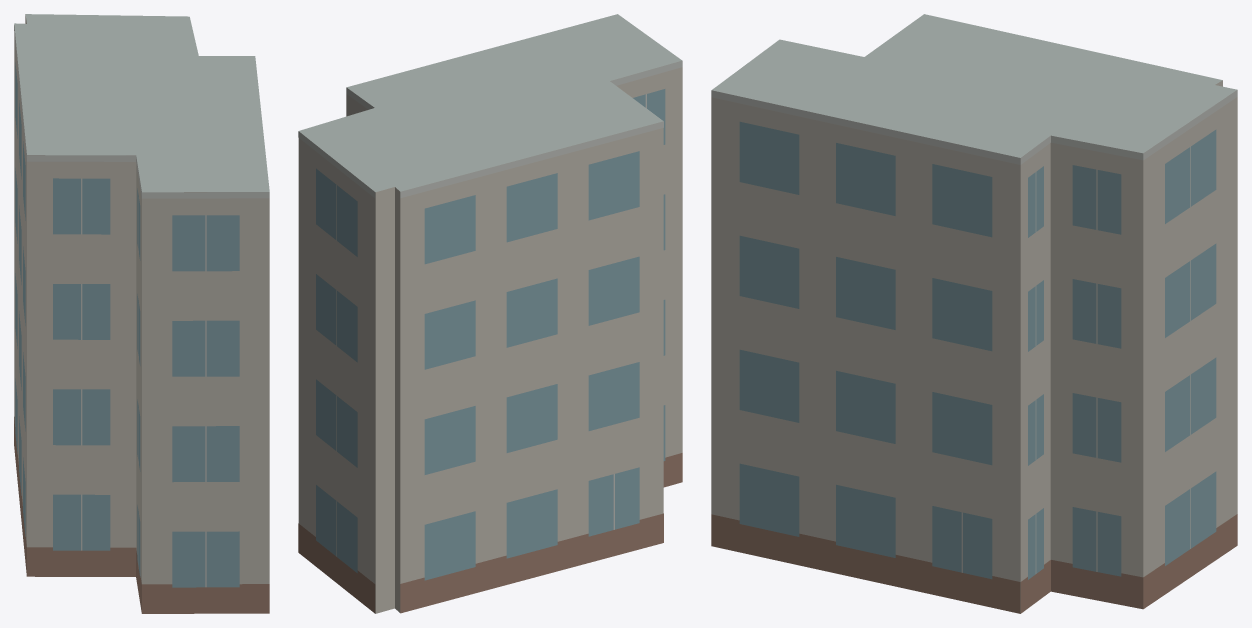
File: survey-upis-32753701.glb
The picture shows the model from 3 angles, left to right: view 1: azimuth 30°, elevation 25°; view 2: azimuth 150°, elevation 25°; view 3: azimuth 270°, elevation 25°; orthographic projection. The views are drawn at different scales.
Visible parts, largest first — view 1: survey-upis-32753701.tmp; view 2: survey-upis-32753701.tmp; view 3: survey-upis-32753701.tmp.
Boxes of the visible parts, x1=… form: survey-upis-32753701.tmp: x1=14, y1=14, x2=269, y2=613; survey-upis-32753701.tmp: x1=298, y1=14, x2=682, y2=613; survey-upis-32753701.tmp: x1=711, y1=14, x2=1237, y2=613.
Size of the model in its own units: 10.71 by 15.8 by 16.53.
